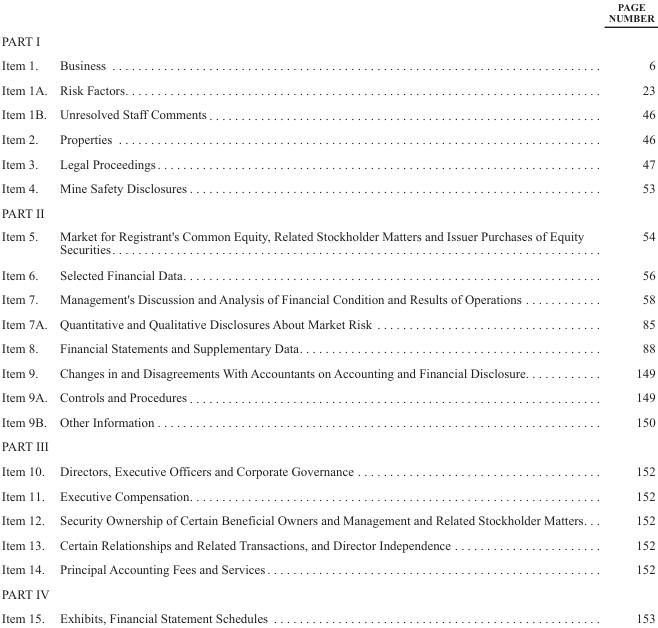table: (0, 1, 654, 625)
table column: (52, 1, 596, 625), (596, 1, 654, 625), (0, 1, 52, 625)
table column header: (0, 1, 654, 28)
table projected row header: (0, 433, 654, 458), (0, 28, 654, 52), (0, 581, 654, 605), (0, 200, 654, 223)
table row: (0, 223, 654, 261), (0, 1, 654, 28), (0, 52, 654, 77), (0, 101, 654, 126), (0, 150, 654, 175), (0, 175, 654, 200), (0, 261, 654, 286), (0, 286, 654, 311), (0, 335, 654, 360), (0, 384, 654, 409), (0, 433, 654, 458), (0, 482, 654, 507), (0, 507, 654, 532), (0, 556, 654, 581), (0, 28, 654, 52), (0, 77, 654, 101), (0, 126, 654, 150), (0, 311, 654, 335), (0, 360, 654, 384), (0, 409, 654, 433), (0, 458, 654, 482), (0, 532, 654, 556), (0, 581, 654, 605), (0, 200, 654, 223), (0, 605, 654, 625)
